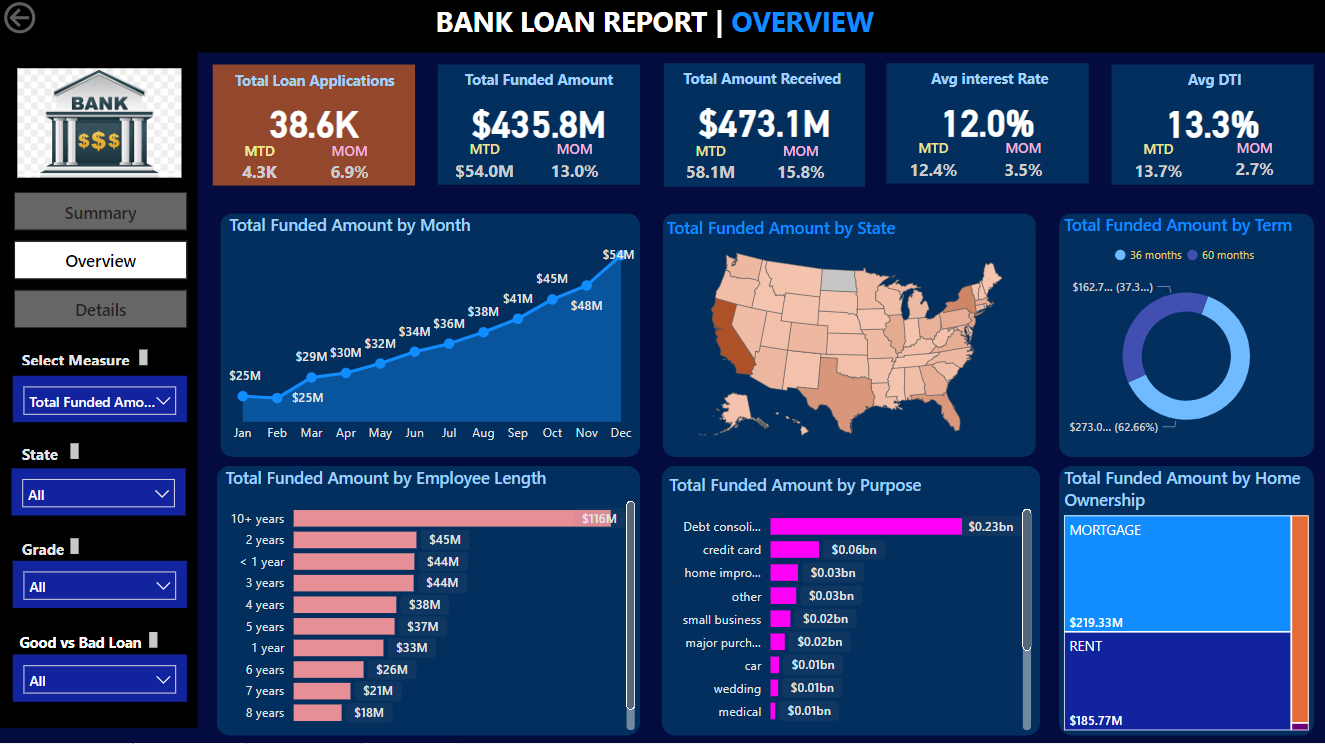

The dashboard page shown, as its layout file describes it:
{"tool":"powerbi","page":{"name":"Overview","canvas":[1280,720],"ordinal":1},"visuals":[{"type":"shape","box":[641.8,63.9,194.1,119.4],"z":0,"group":"g2"},{"type":"shape","box":[856.9,63.9,195,116],"z":0,"group":"g4"},{"type":"shape","box":[206.2,65.1,195.4,117],"z":0,"group":"g8"},{"type":"shape","box":[422.7,65.1,195,116],"z":0,"group":"g6"},{"type":"shape","box":[1073.4,65.1,195,116],"z":0,"group":"g7"},{"type":"shape","box":[213.5,208.6,405.2,235.2],"z":0},{"type":"shape","box":[0,0,1280.3,53.5],"z":1000},{"type":"card","fields":{"Values":["financial_loan.AVG Intrest Rate"]},"box":[856.9,91.4,195,53.8],"z":1000,"group":"g4"},{"type":"card","fields":{"Values":["financial_loan.Total Amount Received"]},"box":[641.8,92.2,194.1,55.4],"z":1000,"group":"g2"},{"type":"card","fields":{"Values":["financial_loan.Total Funded Amount"]},"box":[422.7,92.6,195,53.8],"z":1000,"group":"g6"},{"type":"card","fields":{"Values":["financial_loan.AVG DTI"]},"box":[1073.4,92.6,195,53.8],"z":1000,"group":"g7"},{"type":"card","fields":{"Values":["financial_loan.Total Loan Applications"]},"box":[206.2,92.8,195.4,54.3],"z":1000,"group":"g8"},{"type":"textbox","box":[867.7,63.9,173.3,32.3],"z":2000,"group":"g4"},{"type":"textbox","box":[639.2,64,194.2,35],"z":2000,"group":"g2"},{"type":"textbox","box":[433.5,65.1,173.3,32.3],"z":2000,"group":"g6"},{"type":"textbox","box":[1084.2,65.1,173.3,32.3],"z":2000,"group":"g7"},{"type":"textbox","box":[209.5,66.2,189.3,31.4],"z":2000,"group":"g8"},{"type":"textbox","box":[0,105.8,189.3,31.4],"z":2000},{"type":"shape","box":[0,39.8,191.8,665.7],"z":3000},{"type":"card","title":"MTD","fields":{"Values":["financial_loan.MTD AVG Intrest Rate"]},"box":[867.7,136.9,68.6,43],"z":3000,"group":"g4"},{"type":"card","title":"MTD","fields":{"Values":["financial_loan.MTD Funded Amount"]},"box":[433.5,138.1,68.6,43],"z":3000,"group":"g6"},{"type":"card","title":"MTD","fields":{"Values":["financial_loan.MTD AVG DTI"]},"box":[1084.2,138.1,68.6,43],"z":3000,"group":"g7"},{"type":"card","title":"MTD","fields":{"Values":["financial_loan.MTD Loan Applications"]},"box":[217,138.7,68.7,43.4],"z":3000,"group":"g8"},{"type":"card","title":"MTD","fields":{"Values":["financial_loan.MTD Total Amount Received"]},"box":[652.6,139,68.3,44.3],"z":3000,"group":"g2"},{"type":"textbox","box":[416.1,0,448.6,49.5],"z":4000},{"type":"card","title":"MOM","fields":{"Values":["financial_loan.MOM Avg DTI"]},"box":[1176.6,135.8,68.7,43.4],"z":4000,"group":"g7"},{"type":"card","title":"MOM","fields":{"Values":["financial_loan.MOM Avg Intrest Rate"]},"box":[954.4,136.9,68.6,43],"z":4000,"group":"g4"},{"type":"card","title":"MOM","fields":{"Values":["financial_loan.MOM Funded Amount"]},"box":[520.2,138.1,68.6,43],"z":4000,"group":"g6"},{"type":"card","title":"MOM","fields":{"Values":["financial_loan.MOM Loan Applications"]},"box":[303.9,138.7,68.7,43.4],"z":4000,"group":"g8"},{"type":"card","title":"MOM","fields":{"Values":["financial_loan.MOM Total Amount Received"]},"box":[738.9,139,68.3,44.3],"z":4000,"group":"g2"},{"type":"group","id":"g1","title":"Group 2","box":[639.2,63.9,196.7,119.4],"z":4007,"group":"g11"},{"type":"group","id":"g2","title":"Group 3","box":[639.2,63.9,196.7,119.4],"z":4007,"group":"g1"},{"type":"group","id":"g3","title":"Group 2","box":[856.9,63.9,195,116],"z":4007,"group":"g12"},{"type":"group","id":"g4","title":"Group 3","box":[856.9,63.9,195,116],"z":4007,"group":"g3"},{"type":"group","id":"g5","title":"Group 2","box":[422.7,65.1,195,116],"z":4007,"group":"g10"},{"type":"group","id":"g6","title":"Group 3","box":[422.7,65.1,195,116],"z":4007,"group":"g5"},{"type":"group","id":"g7","title":"Group 3","box":[1073.4,65.1,195,116],"z":4007,"group":"g9"},{"type":"group","id":"g8","title":"Group 1","box":[206.2,65.1,195.4,117],"z":5000},{"type":"card","title":"MTD","fields":{"Values":["financial_loan.MTD Loan Applications"]},"box":[217.1,138.7,68.7,43.4],"z":6000},{"type":"group","id":"g9","title":"Group 2","box":[1073.4,65.1,195.4,115.8],"z":7000},{"type":"group","id":"g10","title":"Group 1","box":[422.7,65.1,195.4,115.8],"z":8000},{"type":"group","id":"g11","title":"Group 1","box":[639.2,63.9,196.6,119.4],"z":9000},{"type":"group","id":"g12","title":"Group 1","box":[856.9,63.9,195.4,115.8],"z":10000},{"type":"actionButton","box":[0,0,100,40],"z":11000},{"type":"slicer","fields":{"Values":["financial_loan.address_state"]},"box":[12.1,454.3,167.6,45.8],"z":12000},{"type":"textbox","box":[16.9,425.7,65.1,26.5],"z":13000},{"type":"slicer","fields":{"Values":["financial_loan.grade"]},"box":[13.3,544.3,167.6,45.8],"z":14000},{"type":"textbox","box":[16.9,517.4,65.1,26.5],"z":15000},{"type":"slicer","fields":{"Values":["financial_loan.Good vs Bad Loan"]},"box":[13.3,634.4,167.6,45.8],"z":16000},{"type":"textbox","box":[14.5,607.8,143.5,26.5],"z":17000},{"type":"areaChart","fields":{"Y":["financial_loan.Total Funded Amount"],"Category":["Date Table.Month"]},"box":[217.1,208.6,401.6,230.3],"z":18000},{"type":"slicer","fields":{"Values":["Select Measure.Select Measure"]},"box":[13.3,365.4,167.6,44.6],"z":19000},{"type":"textbox","box":[16.9,335.3,131.5,25.3],"z":20000},{"type":"shape","box":[640.7,208.6,360,235.2],"z":21000},{"type":"shapeMap","fields":{"Value":["financial_loan.Total Funded Amount"],"Category":["financial_loan.address_state"]},"box":[639.2,211.1,365.4,226.7],"z":22000},{"type":"shape","box":[1022.7,208.6,246,235.2],"z":23000},{"type":"donutChart","fields":{"Y":["financial_loan.Total Funded Amount"],"Category":["financial_loan.term"]},"box":[1022.7,208.6,246,226.7],"z":24000},{"type":"shape","box":[209.8,452.3,408.8,260.5],"z":25000},{"type":"barChart","fields":{"Y":["financial_loan.Total Funded Amount"],"Category":["financial_loan.emp_length"]},"box":[213.5,452.3,405.2,260.5],"z":26000},{"type":"shape","box":[639.2,452.3,365.4,260.5],"z":27000},{"type":"barChart","fields":{"Y":["financial_loan.Total Funded Amount"],"Category":["financial_loan.purpose"]},"box":[641.6,459.5,359.4,253.3],"z":28000},{"type":"shape","box":[1022.7,452.3,246,260.5],"z":29000},{"type":"treemap","fields":{"Values":["financial_loan.Total Funded Amount"],"Group":["financial_loan.home_ownership"]},"box":[1022.7,452.3,246,260.5],"z":30000},{"type":"pageNavigator","box":[14.5,188.5,167.6,133.9],"z":31000},{"type":"image","box":[12.1,63.9,170.1,115.8],"z":32000}]}

Visuals, with their boxes in screenshot pixels (x1, y1, x2, y2), scaled from the page's 1280x720 canvas onto the 1325x744 screenshot:
shape: pyautogui.locateOnScreen(664, 66, 865, 189)
shape: pyautogui.locateOnScreen(887, 66, 1089, 186)
shape: pyautogui.locateOnScreen(213, 67, 416, 188)
shape: pyautogui.locateOnScreen(438, 67, 639, 187)
shape: pyautogui.locateOnScreen(1111, 67, 1313, 187)
shape: pyautogui.locateOnScreen(221, 216, 640, 459)
shape: pyautogui.locateOnScreen(0, 0, 1324, 55)
card - financial_loan.AVG Intrest Rate: pyautogui.locateOnScreen(887, 94, 1089, 150)
card - financial_loan.Total Amount Received: pyautogui.locateOnScreen(664, 95, 865, 153)
card - financial_loan.Total Funded Amount: pyautogui.locateOnScreen(438, 96, 639, 151)
card - financial_loan.AVG DTI: pyautogui.locateOnScreen(1111, 96, 1313, 151)
card - financial_loan.Total Loan Applications: pyautogui.locateOnScreen(213, 96, 416, 152)
textbox: pyautogui.locateOnScreen(898, 66, 1078, 99)
textbox: pyautogui.locateOnScreen(662, 66, 863, 102)
textbox: pyautogui.locateOnScreen(449, 67, 628, 101)
textbox: pyautogui.locateOnScreen(1122, 67, 1302, 101)
textbox: pyautogui.locateOnScreen(217, 68, 413, 101)
textbox: pyautogui.locateOnScreen(0, 109, 196, 142)
shape: pyautogui.locateOnScreen(0, 41, 199, 729)
"MTD" card: pyautogui.locateOnScreen(898, 141, 969, 186)
"MTD" card: pyautogui.locateOnScreen(449, 143, 520, 187)
"MTD" card: pyautogui.locateOnScreen(1122, 143, 1193, 187)
"MTD" card: pyautogui.locateOnScreen(225, 143, 296, 188)
"MTD" card: pyautogui.locateOnScreen(676, 144, 746, 189)
textbox: pyautogui.locateOnScreen(431, 0, 895, 51)
"MOM" card: pyautogui.locateOnScreen(1218, 140, 1289, 185)
"MOM" card: pyautogui.locateOnScreen(988, 141, 1059, 186)
"MOM" card: pyautogui.locateOnScreen(538, 143, 610, 187)
"MOM" card: pyautogui.locateOnScreen(315, 143, 386, 188)
"MOM" card: pyautogui.locateOnScreen(765, 144, 836, 189)
"Group 2" group: pyautogui.locateOnScreen(662, 66, 865, 189)
"Group 3" group: pyautogui.locateOnScreen(662, 66, 865, 189)
"Group 2" group: pyautogui.locateOnScreen(887, 66, 1089, 186)
"Group 3" group: pyautogui.locateOnScreen(887, 66, 1089, 186)
"Group 2" group: pyautogui.locateOnScreen(438, 67, 639, 187)
"Group 3" group: pyautogui.locateOnScreen(438, 67, 639, 187)
"Group 3" group: pyautogui.locateOnScreen(1111, 67, 1313, 187)
"Group 1" group: pyautogui.locateOnScreen(213, 67, 416, 188)
"MTD" card: pyautogui.locateOnScreen(225, 143, 296, 188)
"Group 2" group: pyautogui.locateOnScreen(1111, 67, 1313, 187)
"Group 1" group: pyautogui.locateOnScreen(438, 67, 640, 187)
"Group 1" group: pyautogui.locateOnScreen(662, 66, 865, 189)
"Group 1" group: pyautogui.locateOnScreen(887, 66, 1089, 186)
actionButton: pyautogui.locateOnScreen(0, 0, 104, 41)
slicer - financial_loan.address_state: pyautogui.locateOnScreen(13, 469, 186, 517)
textbox: pyautogui.locateOnScreen(17, 440, 85, 467)
slicer - financial_loan.grade: pyautogui.locateOnScreen(14, 562, 187, 610)
textbox: pyautogui.locateOnScreen(17, 535, 85, 562)
slicer - financial_loan.Good vs Bad Loan: pyautogui.locateOnScreen(14, 656, 187, 703)
textbox: pyautogui.locateOnScreen(15, 628, 164, 655)
areaChart - financial_loan.Total Funded Amount x Date Table.Month: pyautogui.locateOnScreen(225, 216, 640, 454)
slicer - Select Measure.Select Measure: pyautogui.locateOnScreen(14, 378, 187, 424)
textbox: pyautogui.locateOnScreen(17, 346, 154, 373)
shape: pyautogui.locateOnScreen(663, 216, 1036, 459)
shapeMap - financial_loan.Total Funded Amount x financial_loan.address_state: pyautogui.locateOnScreen(662, 218, 1040, 452)
shape: pyautogui.locateOnScreen(1059, 216, 1313, 459)
donutChart - financial_loan.Total Funded Amount x financial_loan.term: pyautogui.locateOnScreen(1059, 216, 1313, 450)
shape: pyautogui.locateOnScreen(217, 467, 640, 737)
barChart - financial_loan.Total Funded Amount x financial_loan.emp_length: pyautogui.locateOnScreen(221, 467, 640, 737)
shape: pyautogui.locateOnScreen(662, 467, 1040, 737)
barChart - financial_loan.Total Funded Amount x financial_loan.purpose: pyautogui.locateOnScreen(664, 475, 1036, 737)
shape: pyautogui.locateOnScreen(1059, 467, 1313, 737)
treemap - financial_loan.Total Funded Amount x financial_loan.home_ownership: pyautogui.locateOnScreen(1059, 467, 1313, 737)
pageNavigator: pyautogui.locateOnScreen(15, 195, 189, 333)
image: pyautogui.locateOnScreen(13, 66, 189, 186)
